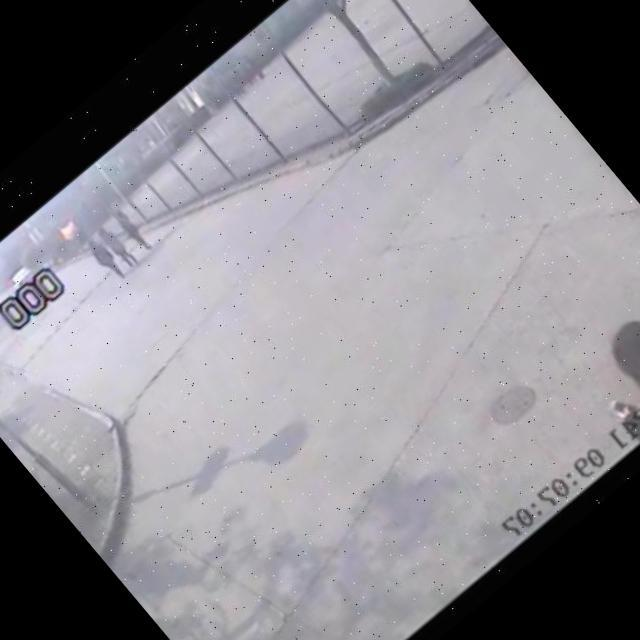person: (102, 198, 160, 260), (88, 215, 144, 275), (79, 230, 130, 286)
